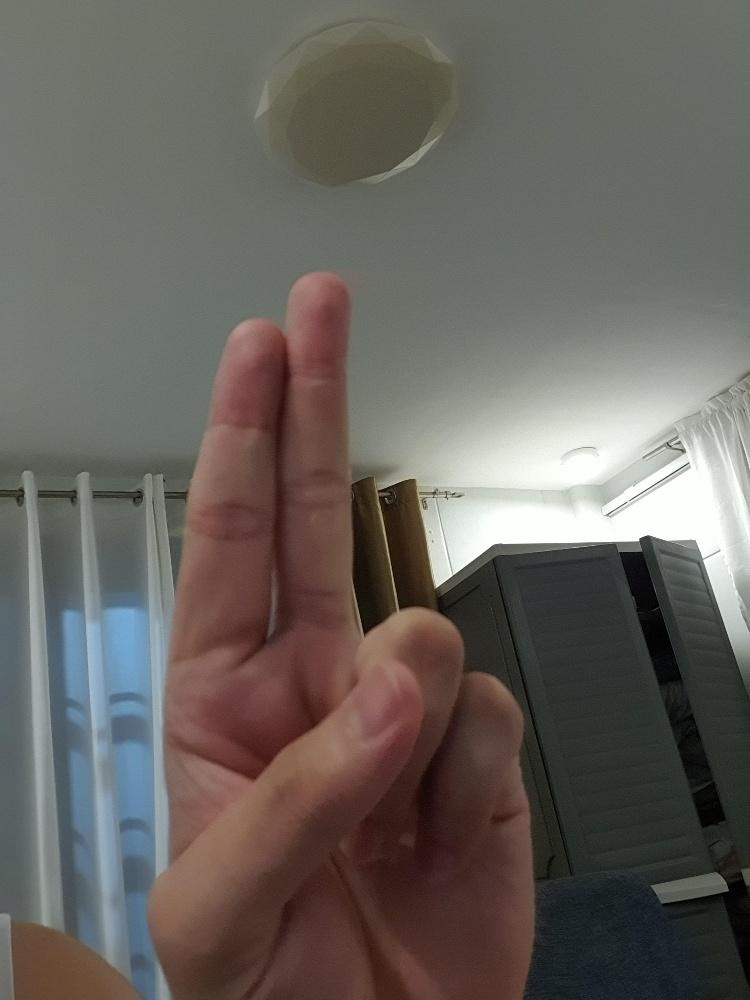u: (142, 262, 544, 999)
